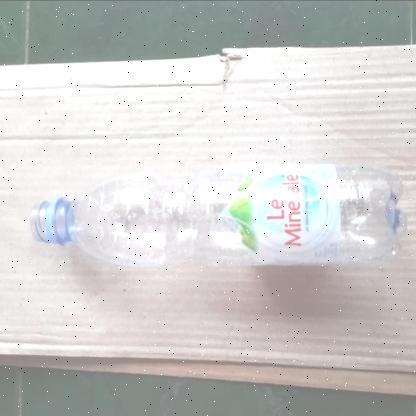Plastic Bottle: (8, 155, 416, 290)
